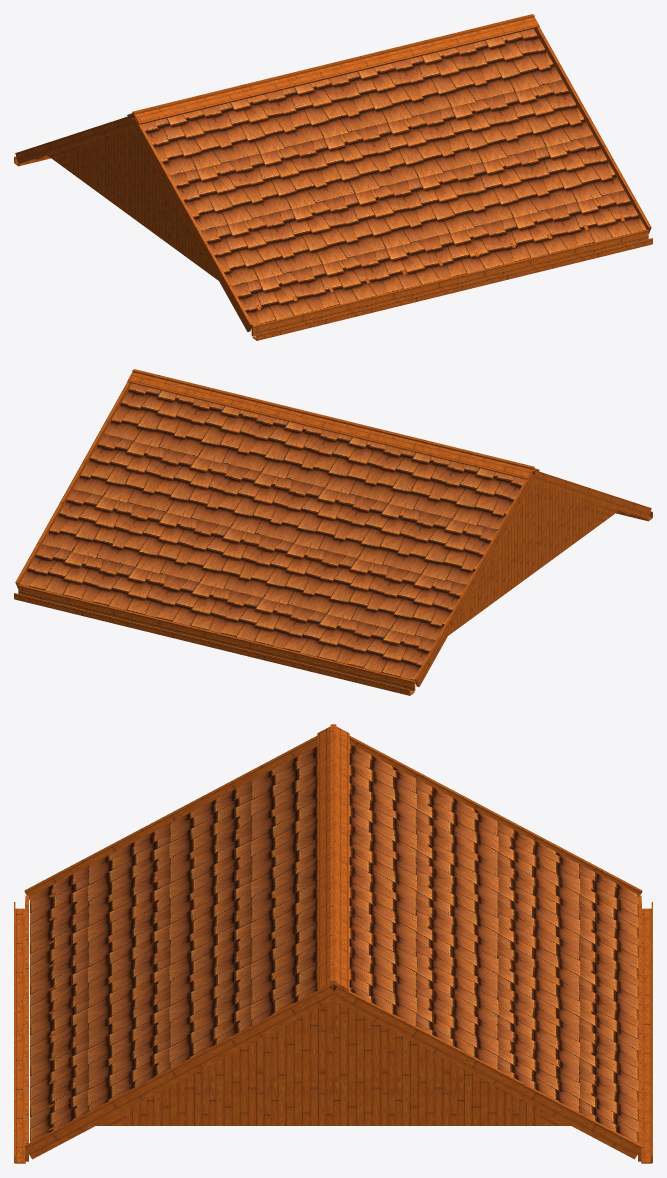
The model's file is Roof_Gable_8x8.fbx.
The picture shows the model from 3 angles, top to bottom: view 1: azimuth 30°, elevation 25°; view 2: azimuth 150°, elevation 25°; view 3: azimuth 270°, elevation 25°; orthographic projection. The views are drawn at different scales.
Visible parts, largest first — view 1: Roof_Gable_8x8; view 2: Roof_Gable_8x8; view 3: Roof_Gable_8x8.
Part boxes in pixels (x1=…): Roof_Gable_8x8: x1=14, y1=14, x2=652, y2=340; Roof_Gable_8x8: x1=14, y1=369, x2=652, y2=695; Roof_Gable_8x8: x1=14, y1=724, x2=652, y2=1163.
Bounding box in the file's own units: 8.82 × 2.95 × 9.26.
